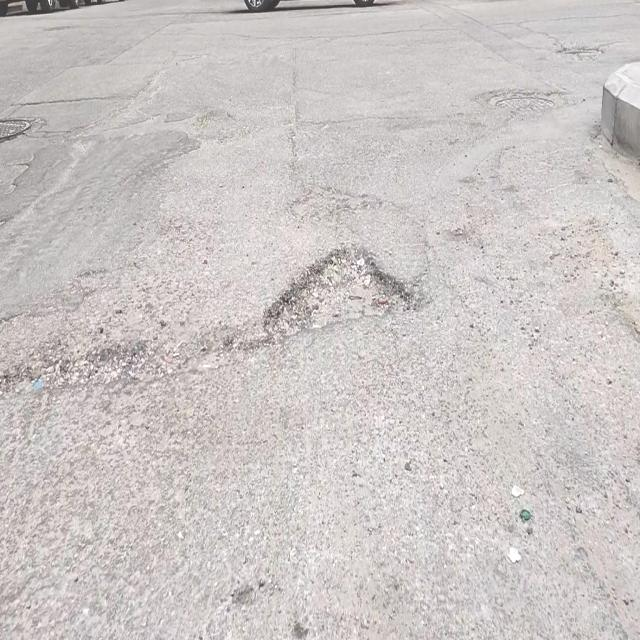Potholes: (258, 238, 407, 342)
